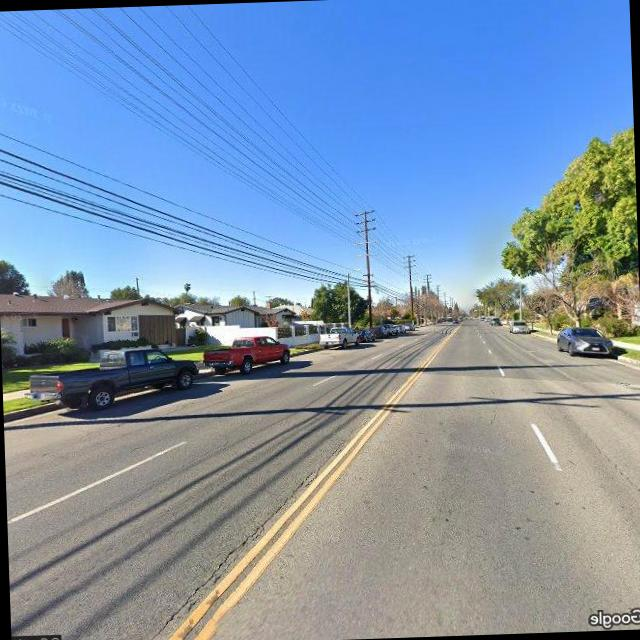pothole: (130, 444, 355, 640)
